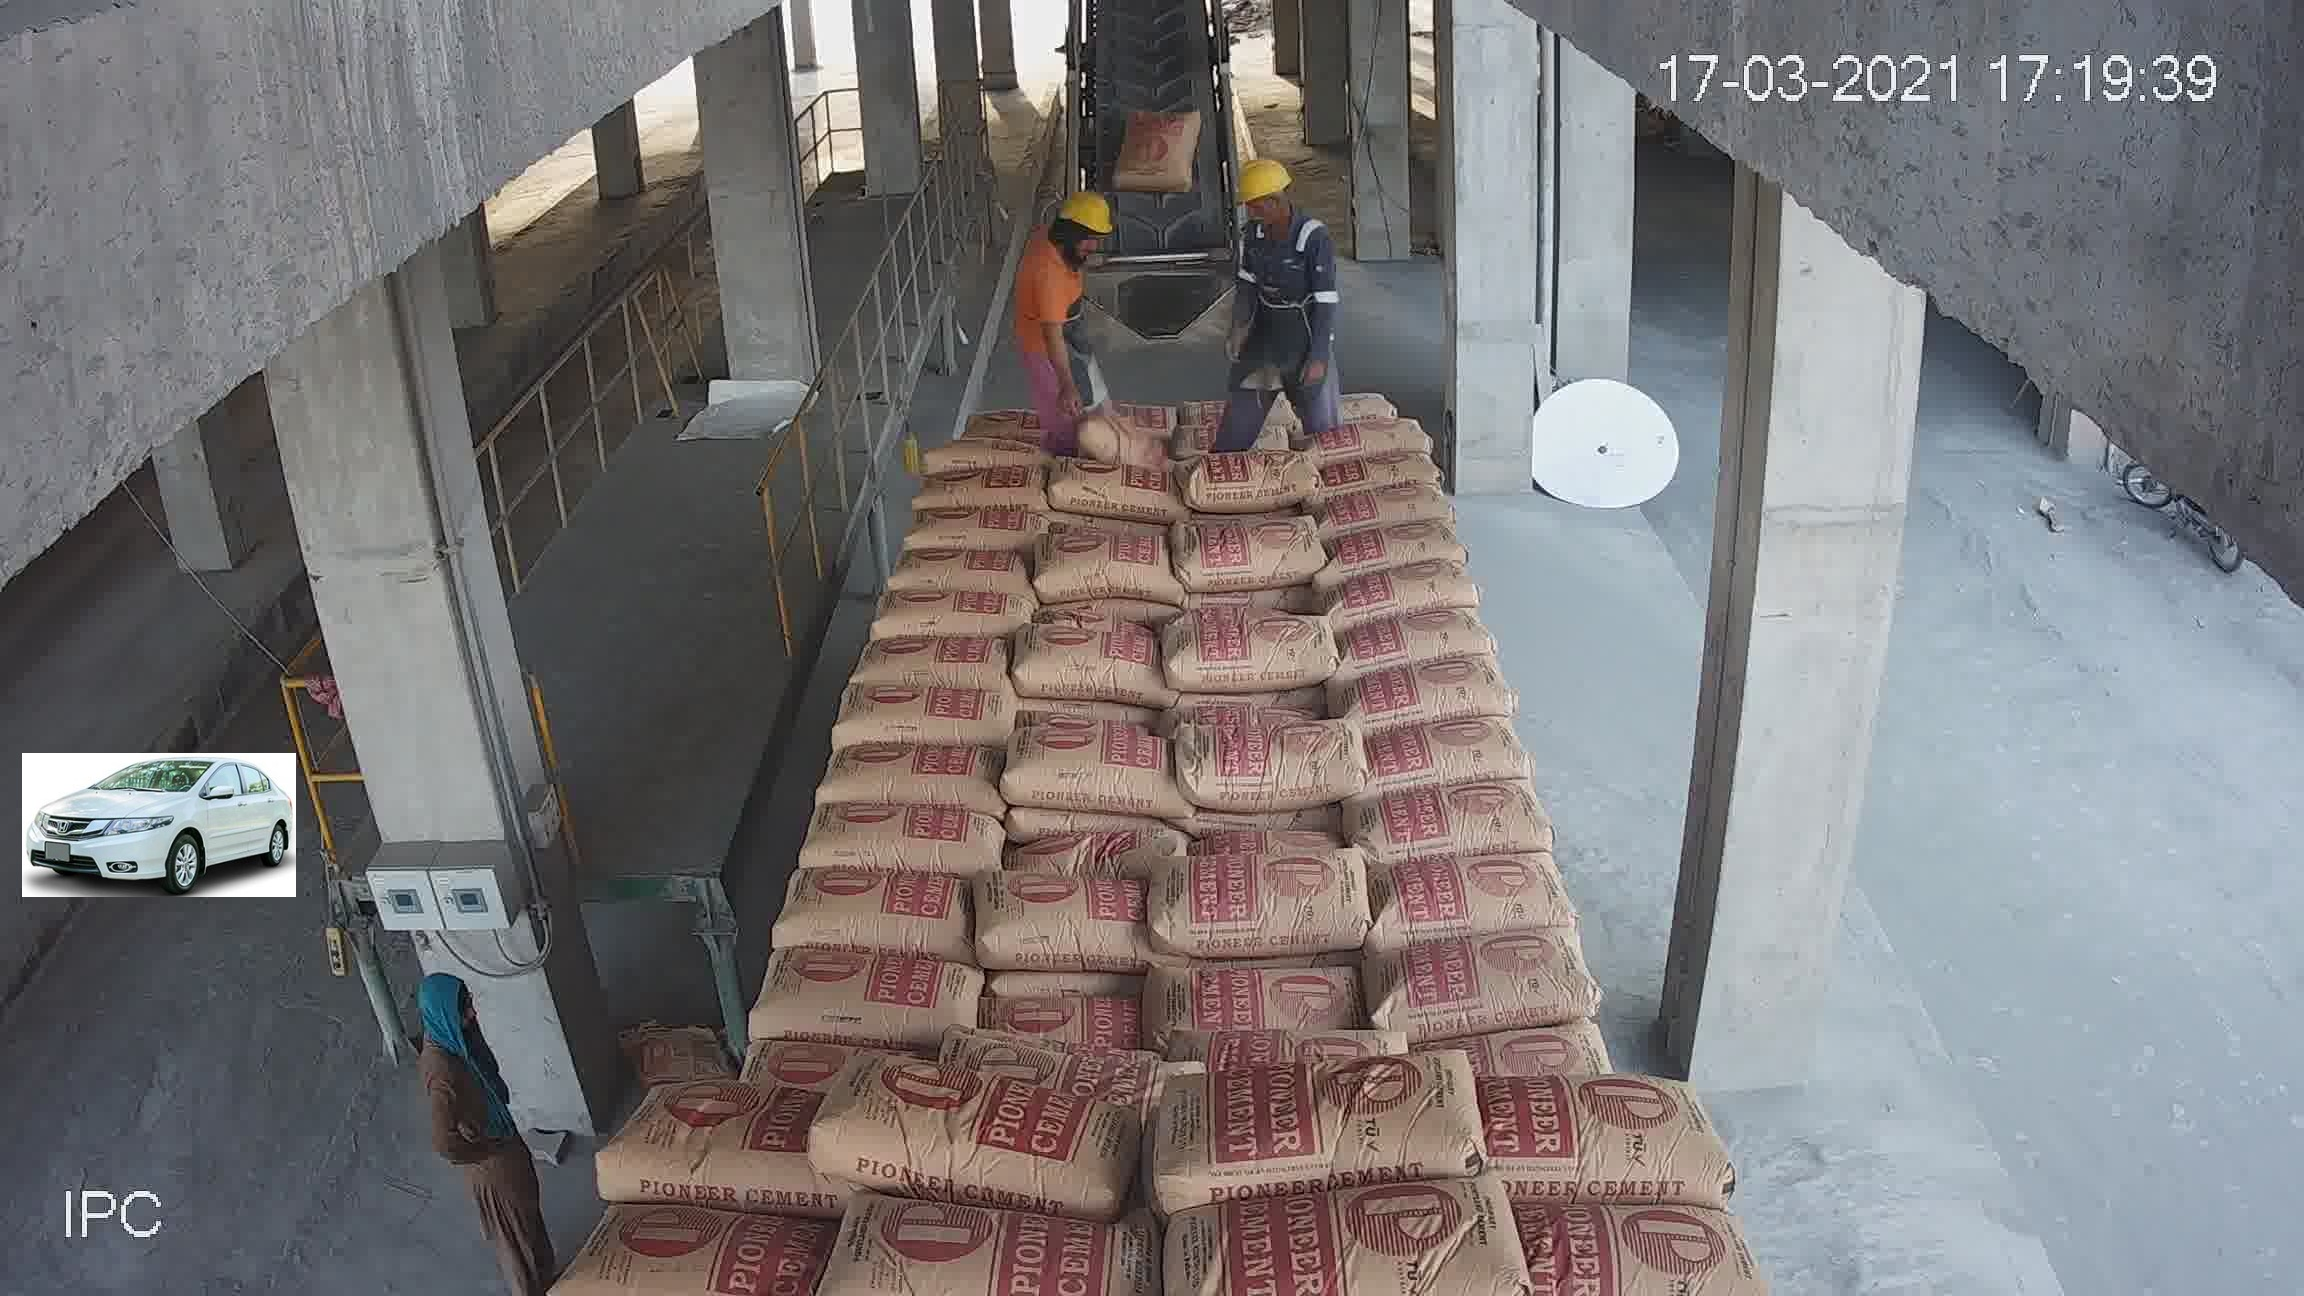bag: (1133, 372, 1220, 475), (1095, 2, 1203, 81)
bag_h: (1146, 1052, 1500, 1226), (824, 1052, 1144, 1222), (1160, 1177, 1499, 1283), (1442, 1086, 1711, 1207), (758, 911, 1002, 1041), (805, 1211, 1154, 1296), (1146, 836, 1378, 956), (1378, 916, 1608, 1038), (1476, 1196, 1787, 1280), (606, 1090, 802, 1207), (548, 1187, 805, 1271), (959, 870, 1149, 983), (1366, 858, 1582, 953), (794, 774, 987, 878), (1147, 775, 1366, 867), (978, 763, 1154, 877), (1356, 772, 1554, 866), (760, 859, 964, 949), (1150, 953, 1367, 1036), (1206, 1010, 1416, 1089), (1334, 704, 1533, 786), (1445, 995, 1622, 1079), (1173, 717, 1358, 794), (945, 1044, 1165, 1109), (809, 734, 987, 812), (1339, 658, 1510, 734), (1313, 554, 1487, 627), (824, 685, 987, 760), (847, 630, 1014, 696), (994, 726, 1161, 791), (1339, 606, 1502, 665), (987, 984, 1152, 1041), (859, 585, 1003, 646), (1320, 437, 1435, 495), (1339, 516, 1465, 568), (1331, 473, 1456, 521), (1337, 392, 1423, 456), (1087, 578, 1193, 627), (870, 548, 995, 582), (1337, 366, 1419, 407), (897, 510, 976, 551)
belt: (1044, 33, 1277, 394)
